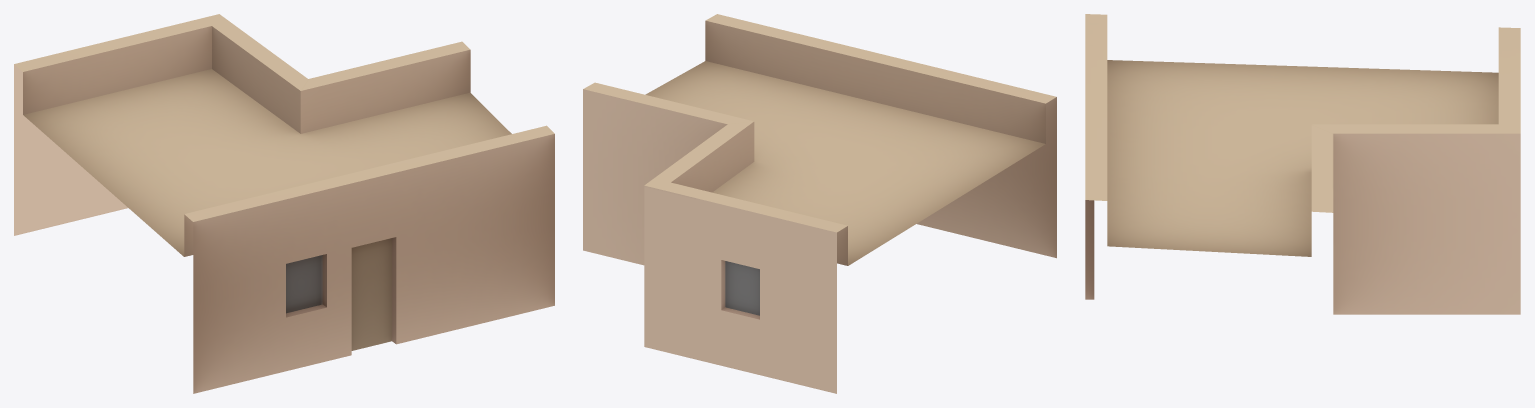
3 renders of one model, left to right at view 1: azimuth 30°, elevation 25°; view 2: azimuth 150°, elevation 25°; view 3: azimuth 270°, elevation 25°, orthographic. The views are drawn at different scales.
Parts seen in each view (by area): view 1: atturaifworldheritagesite70030076676983761; view 2: atturaifworldheritagesite70030076676983761; view 3: atturaifworldheritagesite70030076676983761.
Part boxes in pixels (x1,y1,x2,y2): atturaifworldheritagesite70030076676983761: (14, 14, 554, 393); atturaifworldheritagesite70030076676983761: (583, 14, 1056, 393); atturaifworldheritagesite70030076676983761: (1085, 14, 1520, 314).
Bounding box in the file's own units: 7.54 × 3.2 × 6.97.
Materials: 1 (1 with a texture image).
